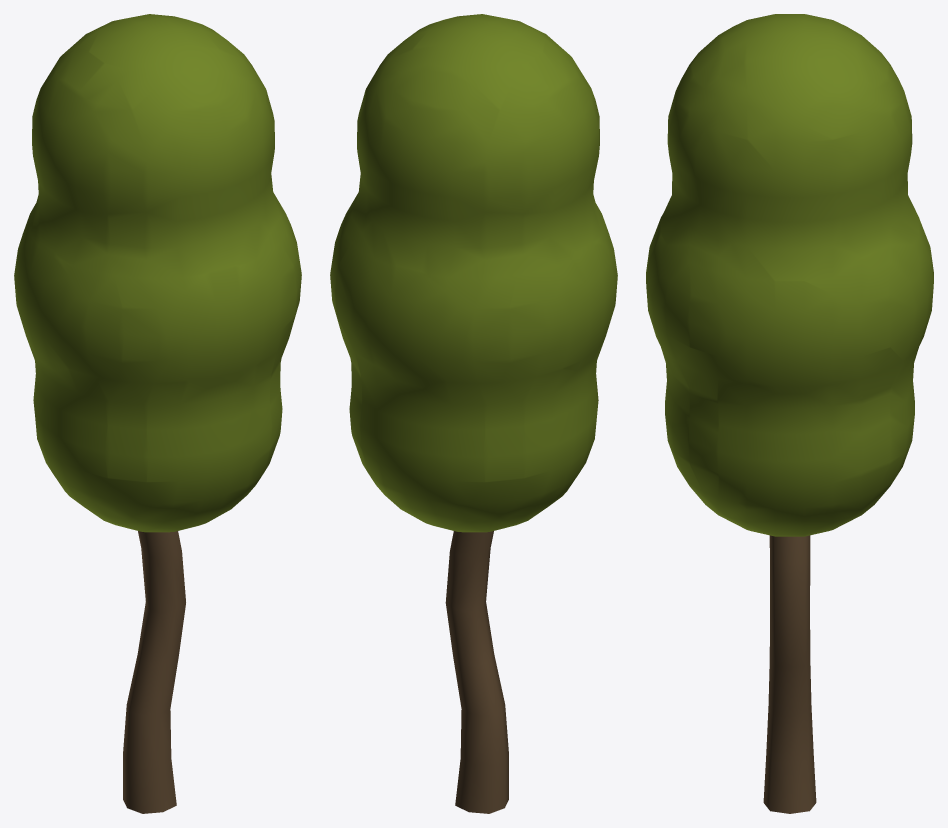
The model's file is Tree-QeYQEpgPcC.glb.
3 renders of one model, left to right at view 1: azimuth 30°, elevation 25°; view 2: azimuth 150°, elevation 25°; view 3: azimuth 270°, elevation 25°, orthographic.
Parts seen in each view (by area): view 1: Tree-QeYQEpgPcC; view 2: Tree-QeYQEpgPcC; view 3: Tree-QeYQEpgPcC.
Boxes of the visible parts, bbox=[...] form: Tree-QeYQEpgPcC: bbox=[14, 14, 301, 813]; Tree-QeYQEpgPcC: bbox=[330, 14, 617, 813]; Tree-QeYQEpgPcC: bbox=[646, 14, 933, 813].
Bounding box in the file's own units: 2.08 × 6.22 × 2.08.
